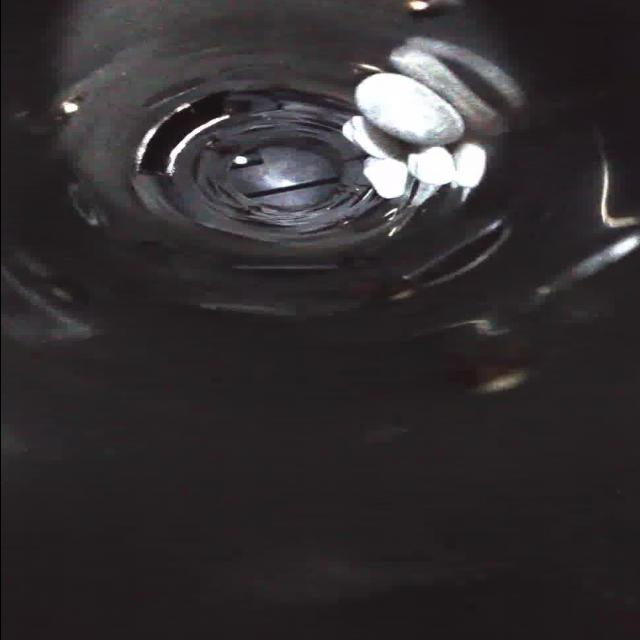crack: (234, 212, 344, 244), (248, 100, 348, 132)
hole: (128, 86, 230, 178)
